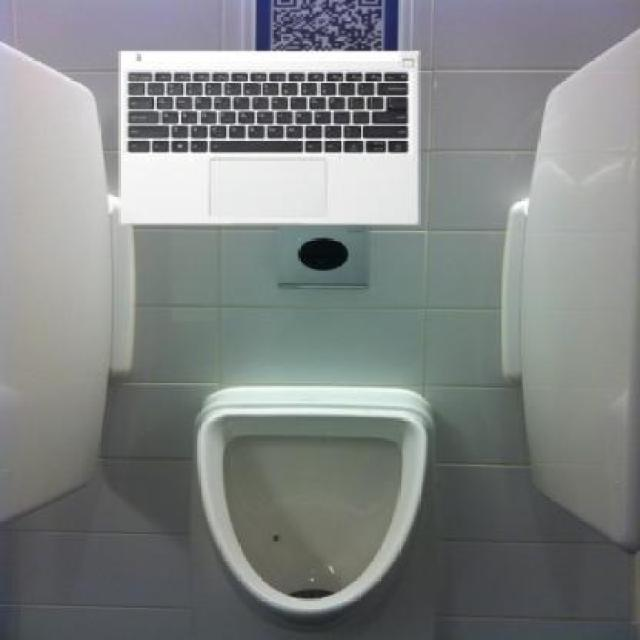keyboard: (116, 45, 421, 226)
